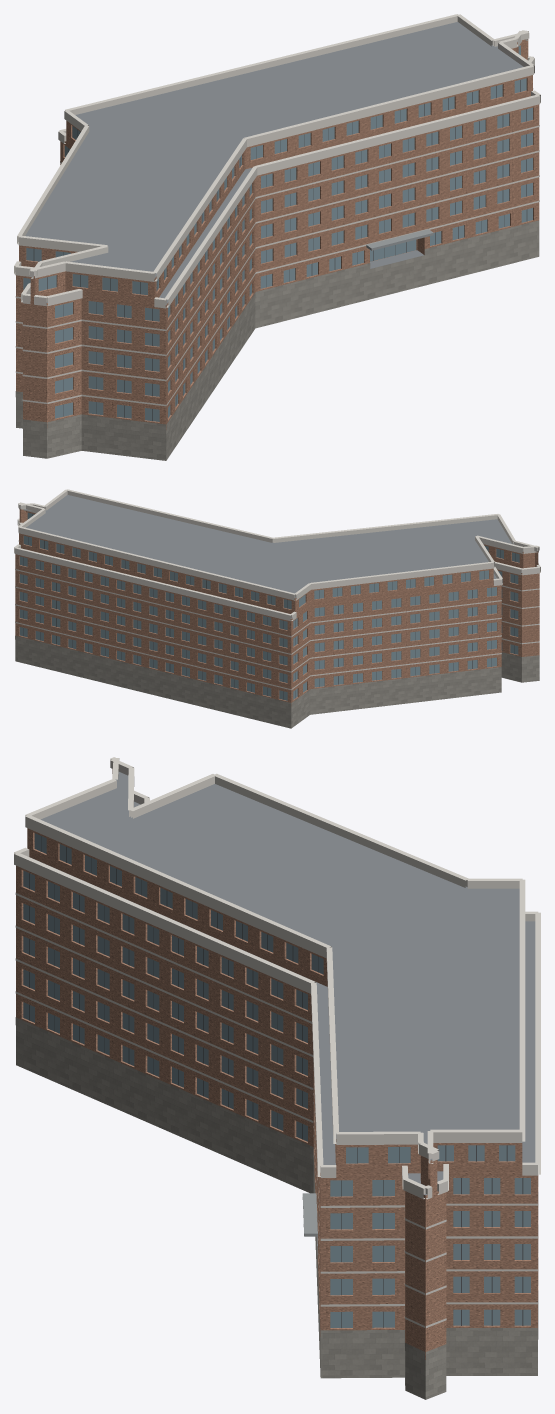
3 views of the same model, one above another, from view 1: azimuth 30°, elevation 25°; view 2: azimuth 150°, elevation 25°; view 3: azimuth 270°, elevation 25° (orthographic). The views are drawn at different scales.
Visible parts, largest first — view 1: eduGrad__wall, eduGrad__roof, eduGrad__trim, eduGrad__glass, eduGrad__base, eduGrad__frame; view 2: eduGrad__wall, eduGrad__roof, eduGrad__glass, eduGrad__trim, eduGrad__base, eduGrad__frame; view 3: eduGrad__roof, eduGrad__wall, eduGrad__trim, eduGrad__base, eduGrad__glass, eduGrad__frame.
Part boxes in pixels (box(x1,y1,x2,y2)): eduGrad__wall: box(16, 39, 539, 429); eduGrad__roof: box(25, 22, 523, 304); eduGrad__trim: box(14, 14, 540, 406); eduGrad__glass: box(23, 45, 532, 421); eduGrad__base: box(15, 220, 539, 460); eduGrad__frame: box(33, 80, 527, 421); eduGrad__wall: box(15, 508, 539, 706); eduGrad__roof: box(20, 495, 537, 618); eduGrad__glass: box(19, 512, 519, 700); eduGrad__trim: box(14, 489, 540, 689); eduGrad__base: box(15, 635, 539, 728); eduGrad__frame: box(23, 514, 515, 699); eduGrad__roof: box(30, 772, 535, 1293); eduGrad__wall: box(16, 769, 538, 1359); eduGrad__trim: box(14, 757, 540, 1327); eduGrad__base: box(15, 1017, 538, 1399); eduGrad__glass: box(23, 833, 530, 1327); eduGrad__frame: box(29, 836, 523, 1328).
Size of the model in its own units: 96.97 by 27.55 by 53.73.
Materials: 8 (2 with a texture image).
